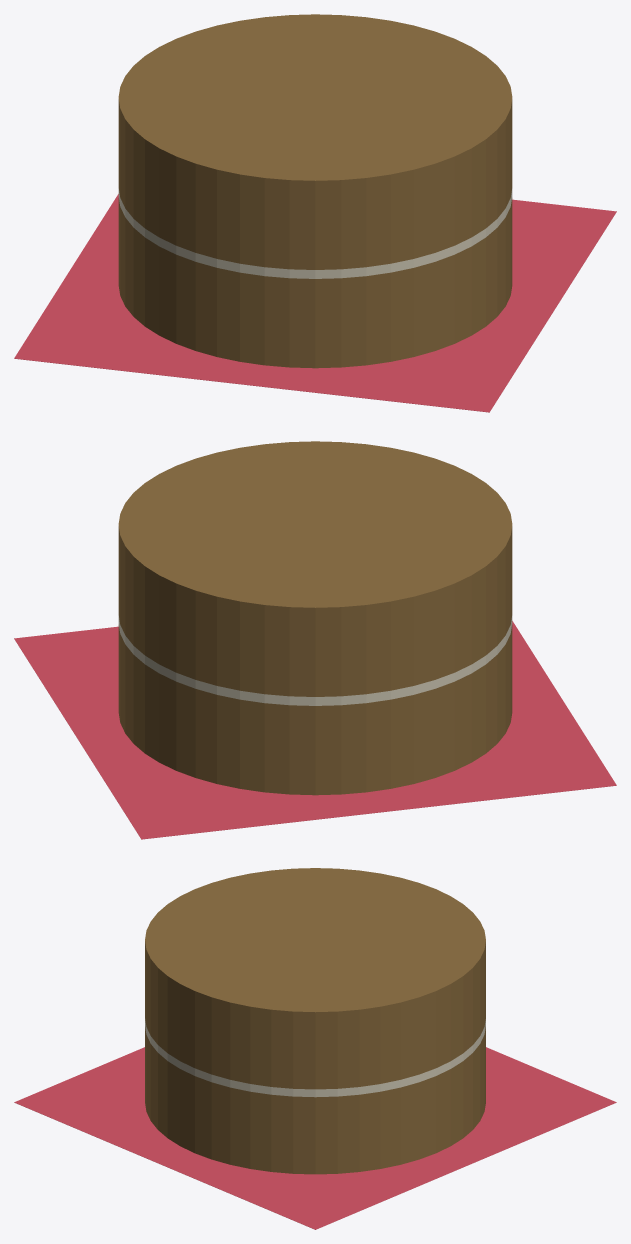
The model's file is CVC.glb.
3 views of the same model, one above another, from view 1: azimuth 30°, elevation 25°; view 2: azimuth 150°, elevation 25°; view 3: azimuth 270°, elevation 25° (orthographic). The views are drawn at different scales.
Visible parts, largest first — view 1: Mesh_Mesh_head_geo.001_lambert2SG.001; view 2: Mesh_Mesh_head_geo.001_lambert2SG.001; view 3: Mesh_Mesh_head_geo.001_lambert2SG.001.
Boxes of the visible parts, box(x1,y1,x2,y2) form: Mesh_Mesh_head_geo.001_lambert2SG.001: box(14, 14, 616, 412); Mesh_Mesh_head_geo.001_lambert2SG.001: box(14, 441, 616, 839); Mesh_Mesh_head_geo.001_lambert2SG.001: box(14, 868, 616, 1229).
Size of the model in its own units: 0.0354 by 0.0105 by 0.0354.
